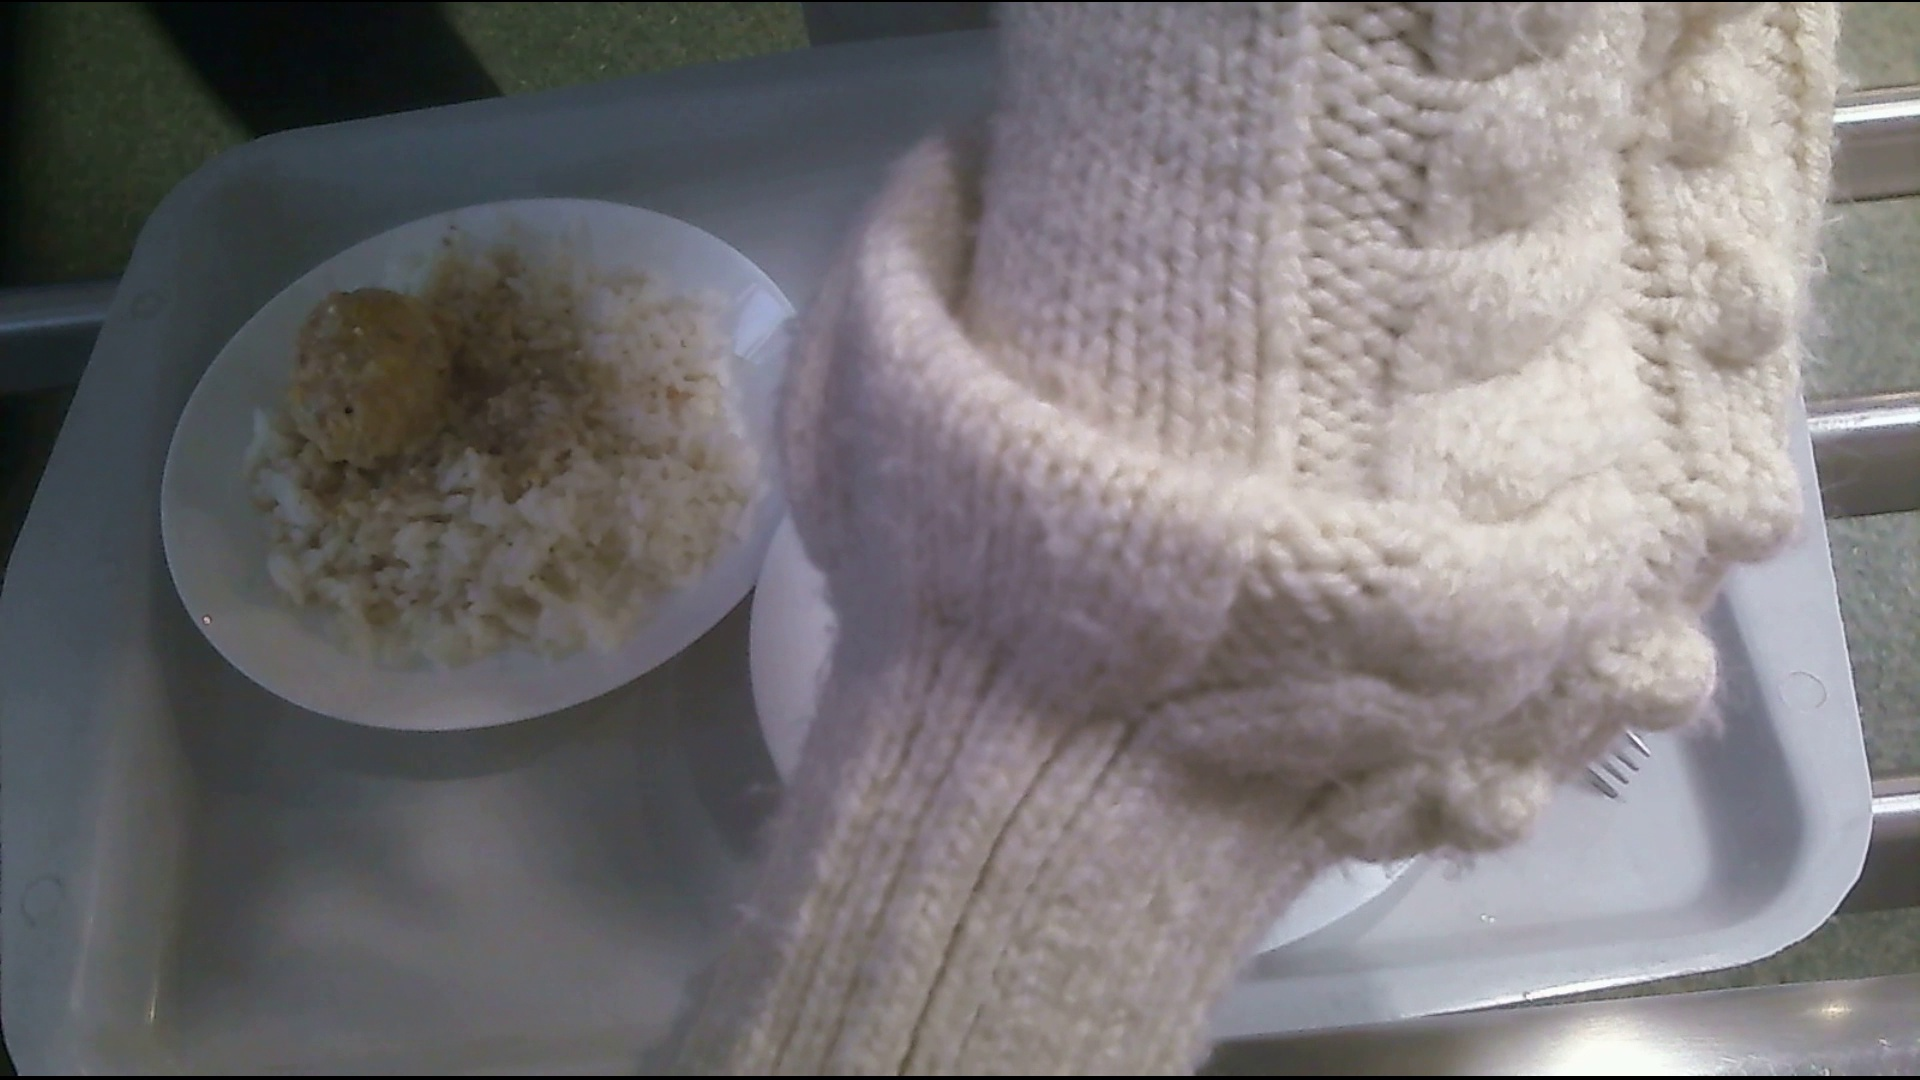plate: (164, 219, 808, 737)
